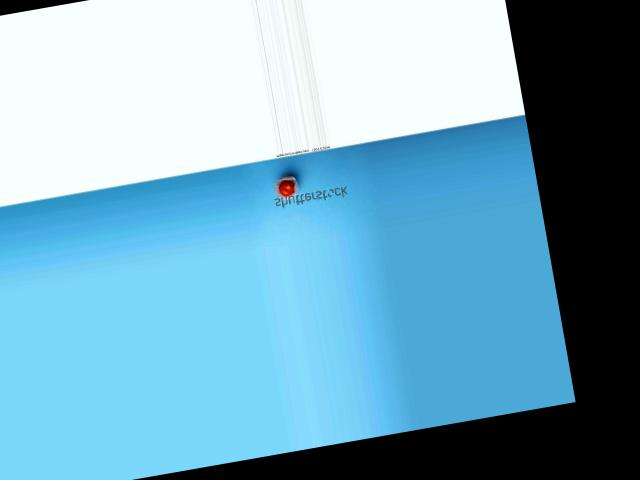tomato: (278, 178, 296, 197)
